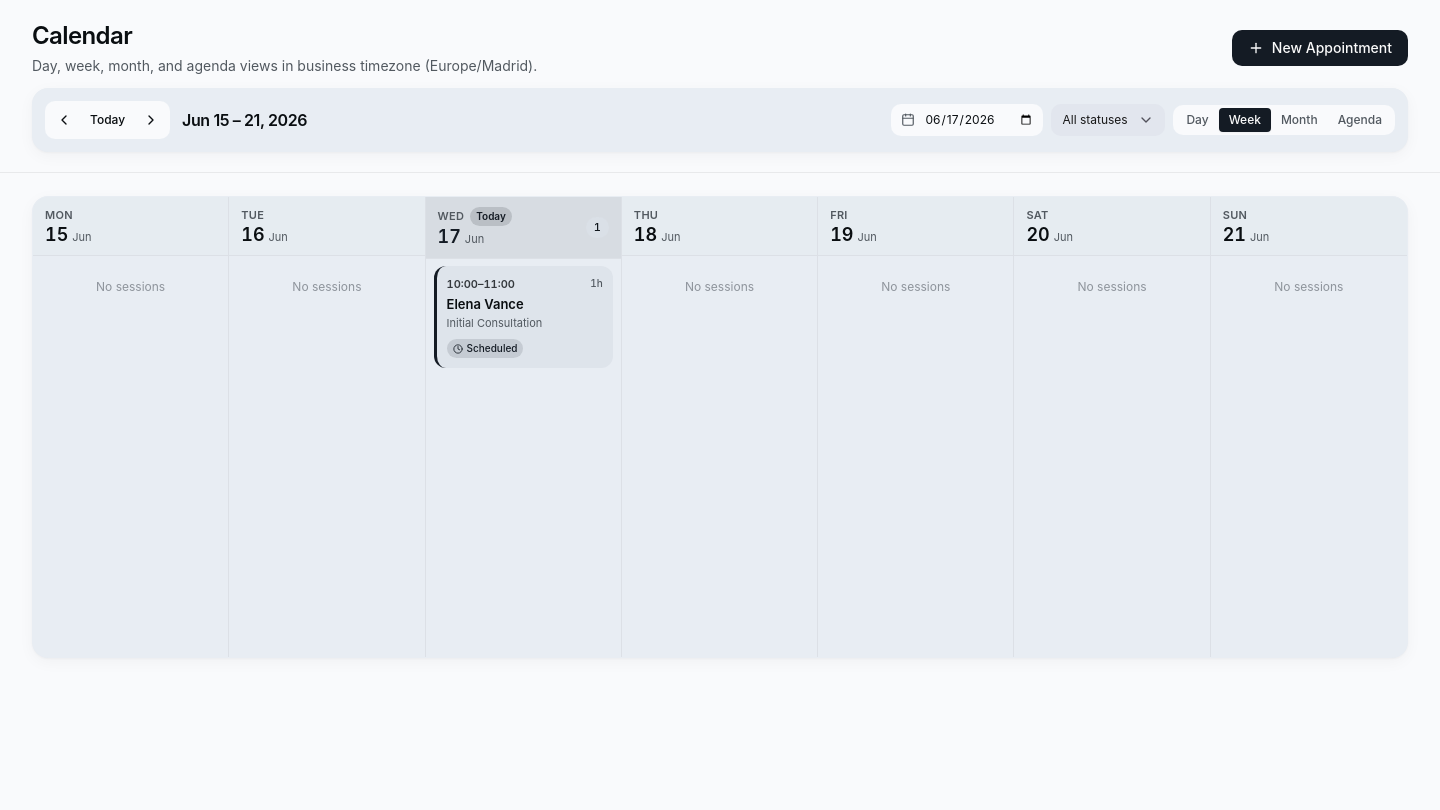
Test: CalendarPage › switches across week, day, month, and agenda views and navigates periods
This screenshot has width=1440, height=810.
Later steps or results of the test are not shown.
Expected: the text "Elena Vance" is shown, [447,296,524,312]
Expected: the text "Initial Consultation" is shown, [447,316,542,330]
# Switch to Day view
Click the button "Day" at (1198, 120), box [1176,108,1219,132]
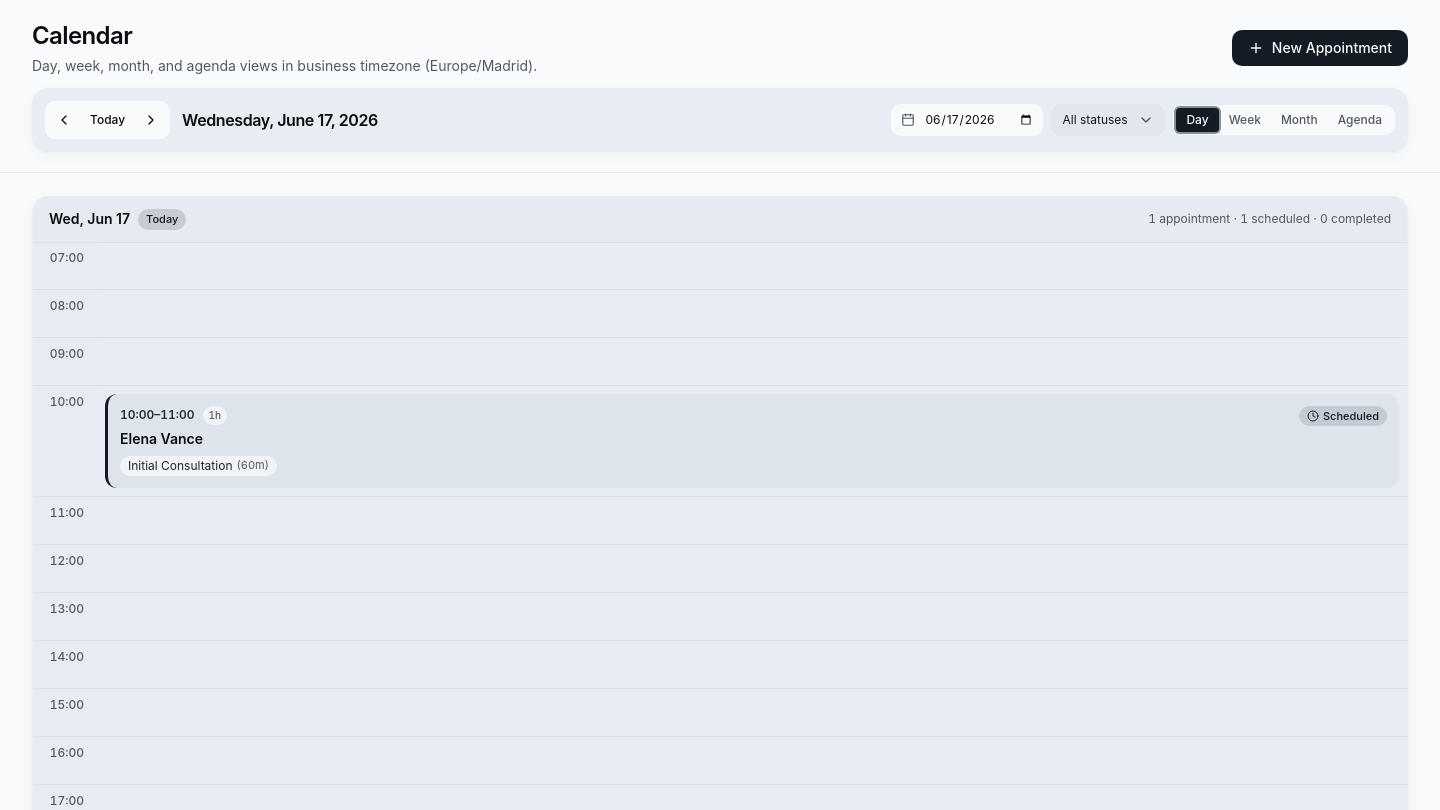
Result: the heading "Wednesday, June 17, 2026" is shown at [178,108,382,132]
Click the button named "Next period" at (151, 120), box [135,104,167,136]
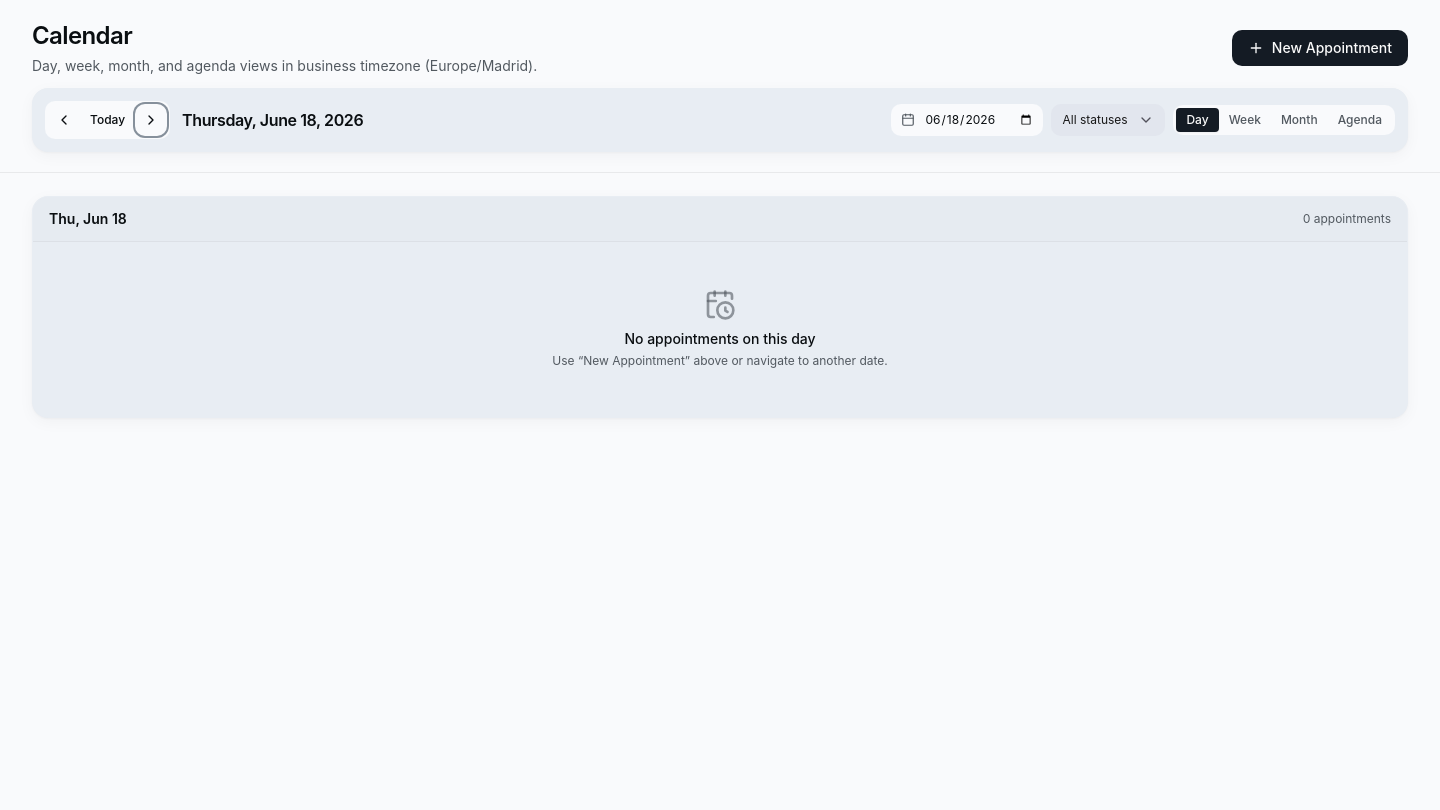
Click the button "Today" at (108, 120), box [80,104,135,136]
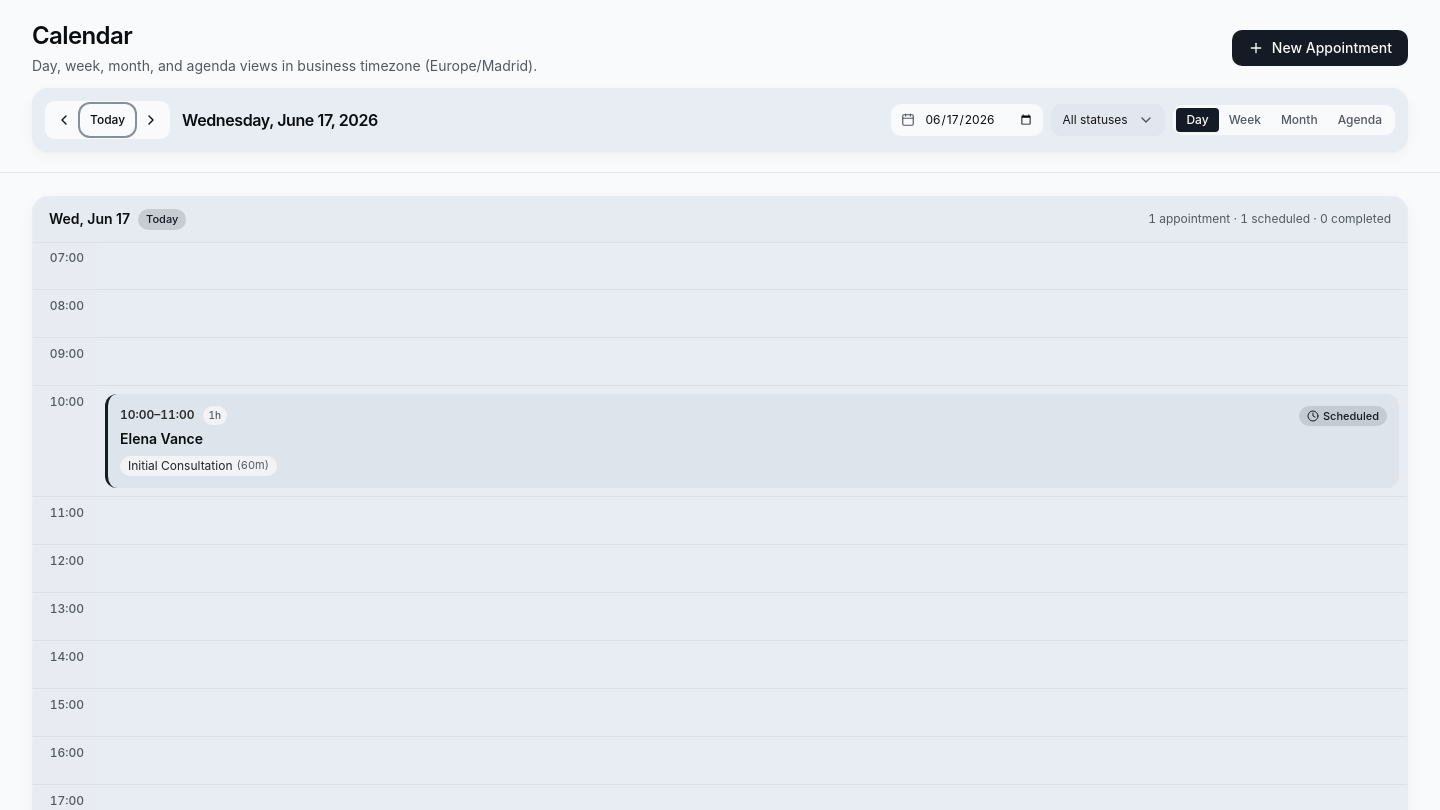
# Switch to Month view
Click the button "Month" at (1299, 120), box [1271,108,1328,132]
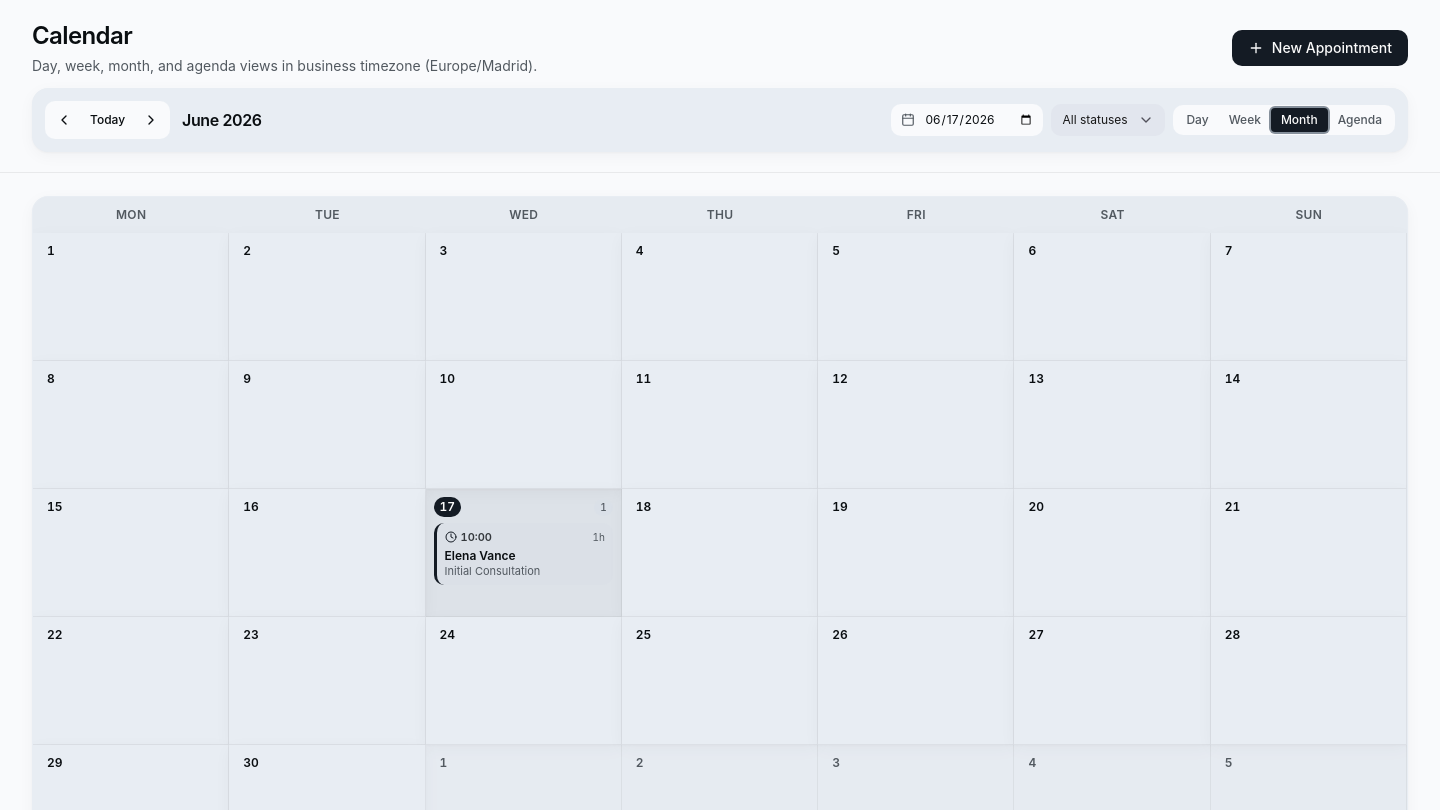
Result: the heading "June 2026" is shown at [178,108,266,132]
